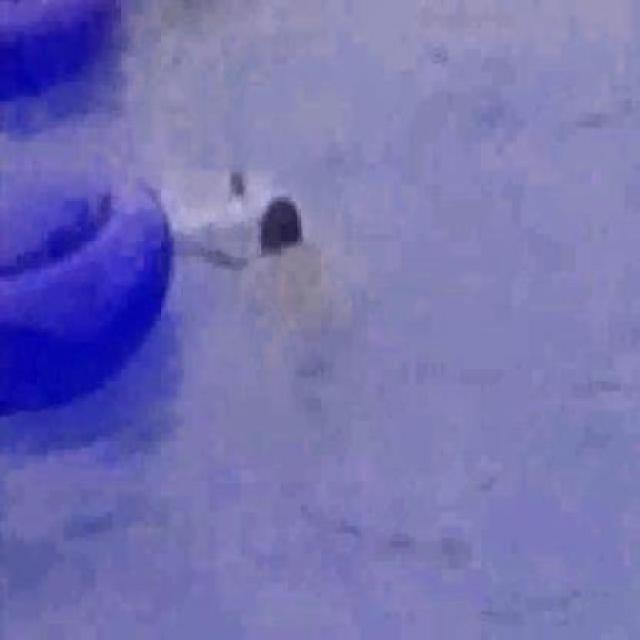drowning: (164, 142, 331, 296)
